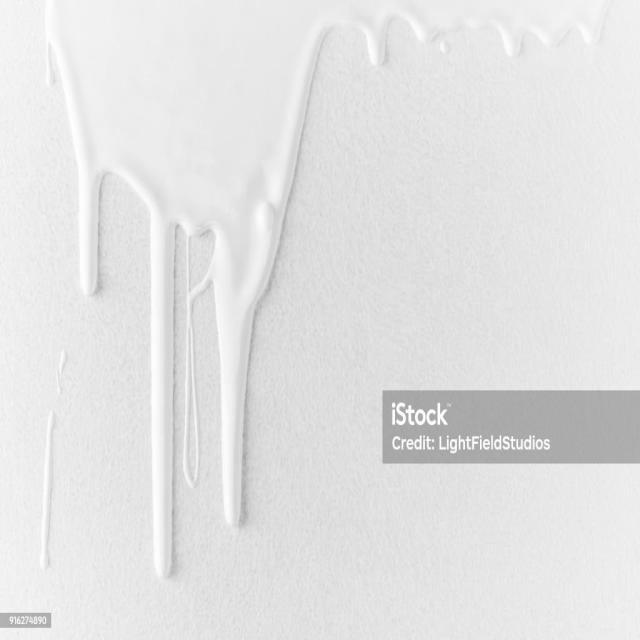paint drips: (43, 27, 320, 600), (353, 5, 622, 104)
